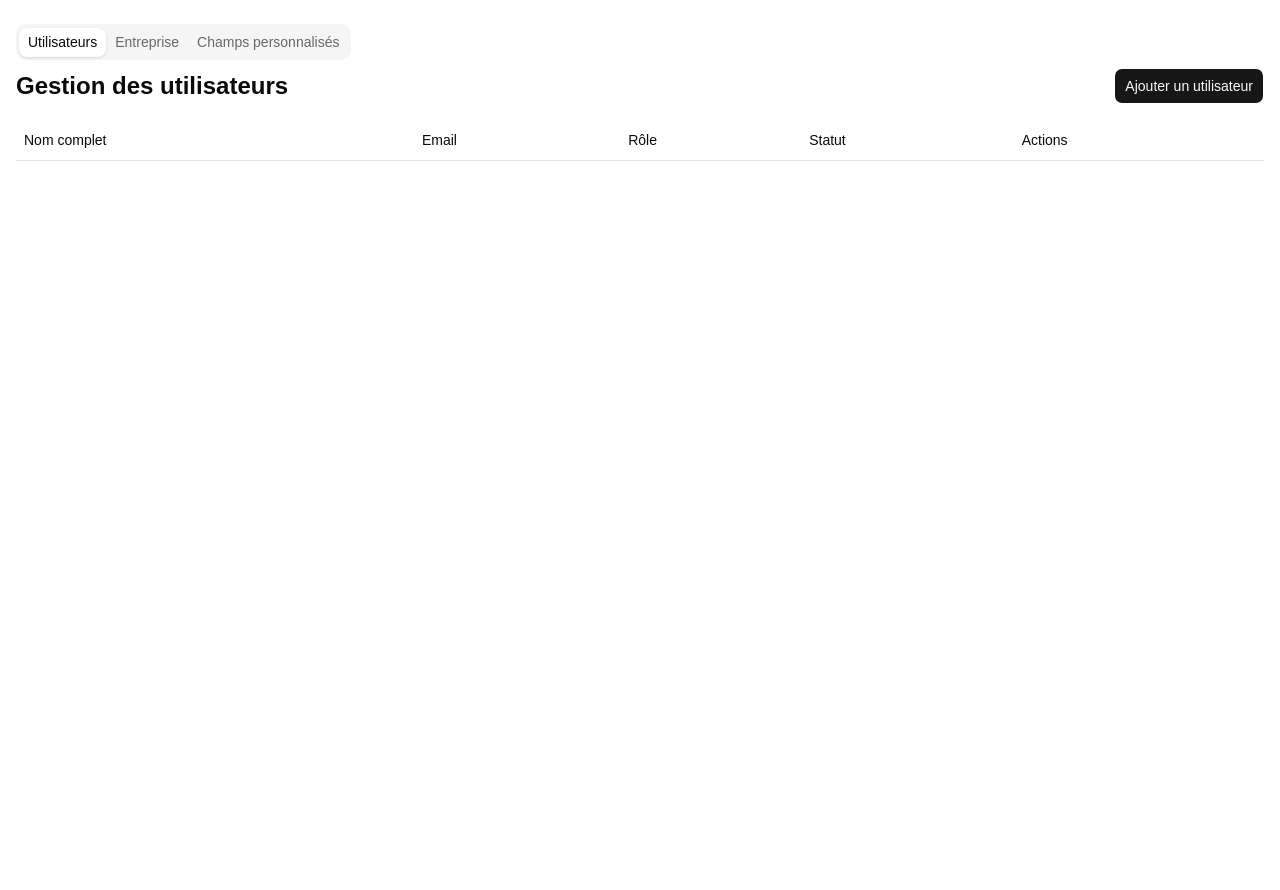
Test: AdminPage › switches to Entreprise tab and shows company settings
Click the tab "Entreprise" at (147, 42), box [106,28,188,56]
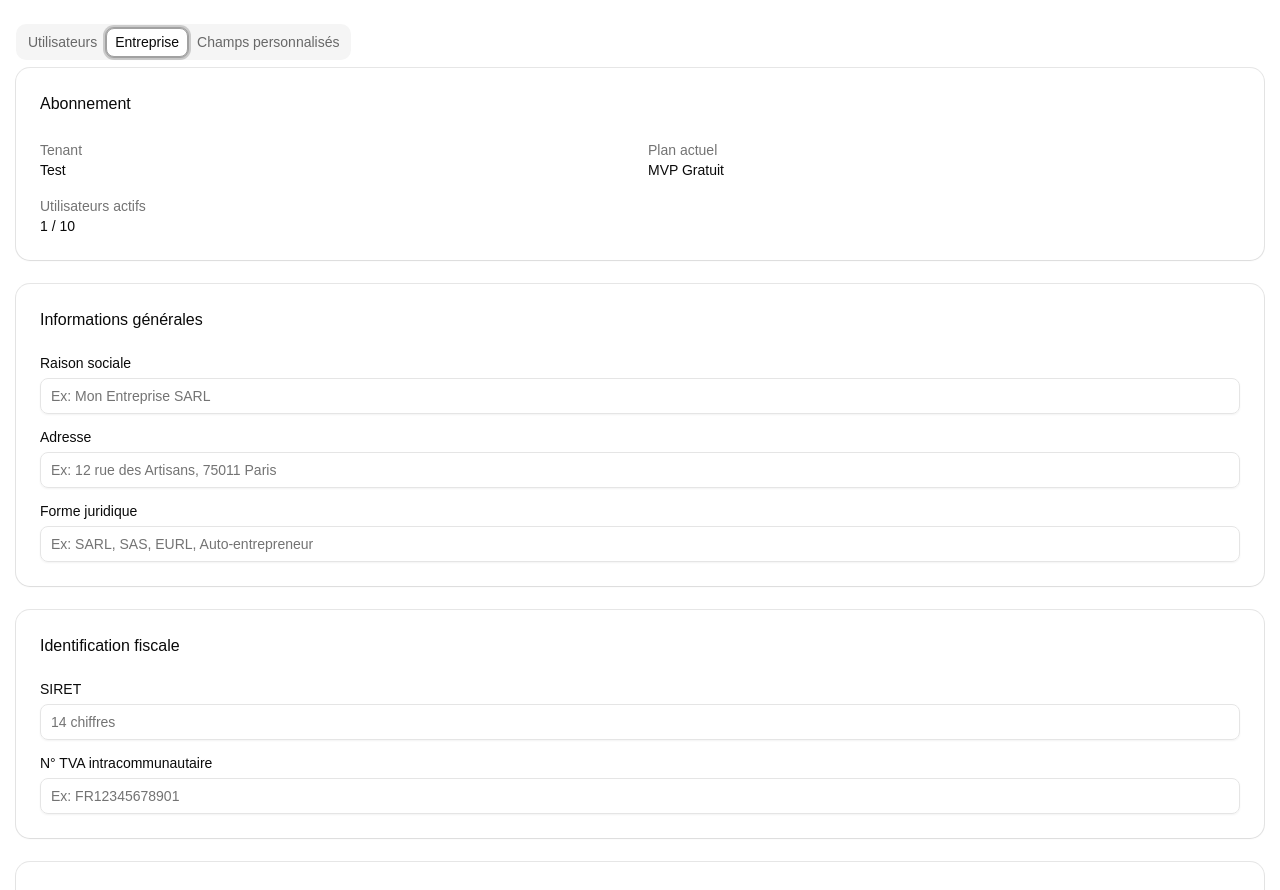
expect the text "Informations générales" is shown: met, box [40,311,203,328]
expect the text "Abonnement" is shown: met, box [40,95,131,112]
